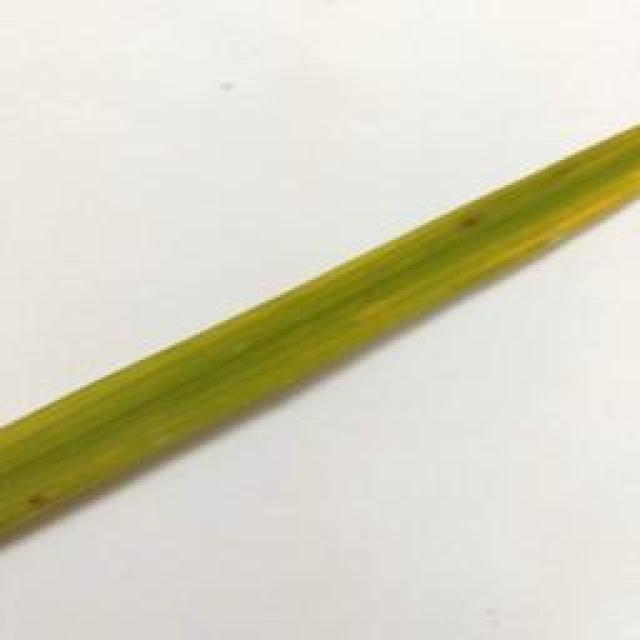Brown_Spot: (24, 481, 51, 515), (453, 216, 485, 235)
